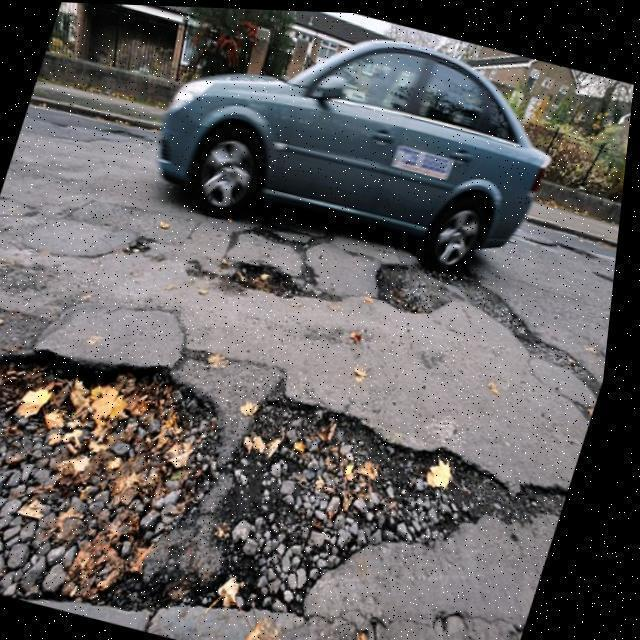Pothole: (0, 358, 560, 614), (376, 264, 598, 392), (229, 261, 335, 298)
